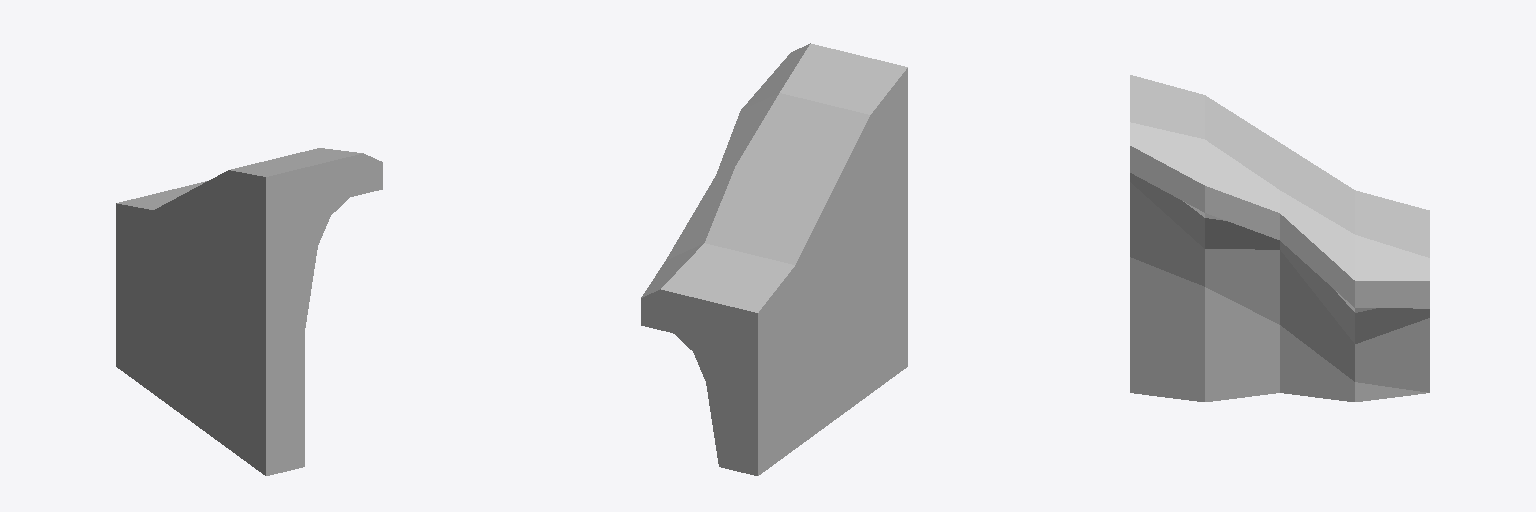
The model's file is Cliff_Top_Hill_Sharp.obj.
3 renders of one model, left to right at view 1: azimuth 30°, elevation 25°; view 2: azimuth 150°, elevation 25°; view 3: azimuth 270°, elevation 25°, orthographic.
Visible parts, largest first — view 1: object1; view 2: object1; view 3: object1.
Part boxes in pixels (left/top/right/bottom): object1: left=116, top=148, right=382, bottom=475; object1: left=641, top=43, right=907, bottom=475; object1: left=1130, top=75, right=1429, bottom=401.
Bounding box in the file's own units: 1 × 2.2 × 2.